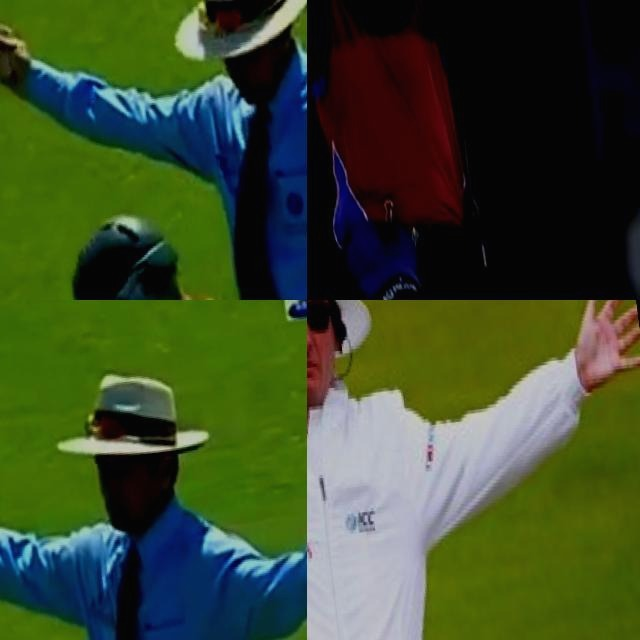Six: (307, 0, 536, 300)
Wide: (307, 300, 640, 640), (0, 332, 307, 640), (0, 0, 307, 286)
